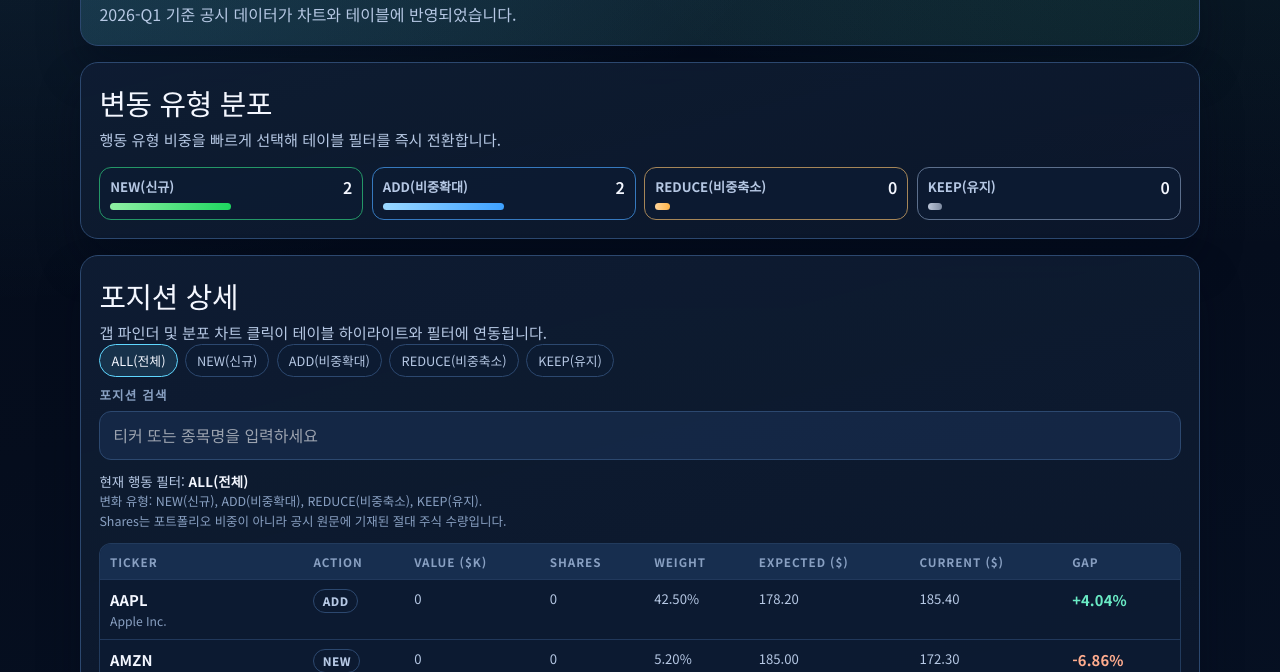
Test: Whale Insider chart coupling › renders and applies all filter chips including KEEP
(page scrolled)
Expected: the row with test id "positions-row-AAPL" is shown, [100,580,1180,639]
Expected: the tab "ALL(전체)" is shown, [99,344,178,378]
Click the tab "KEEP(유지)" at (570, 360), box [526,344,614,378]
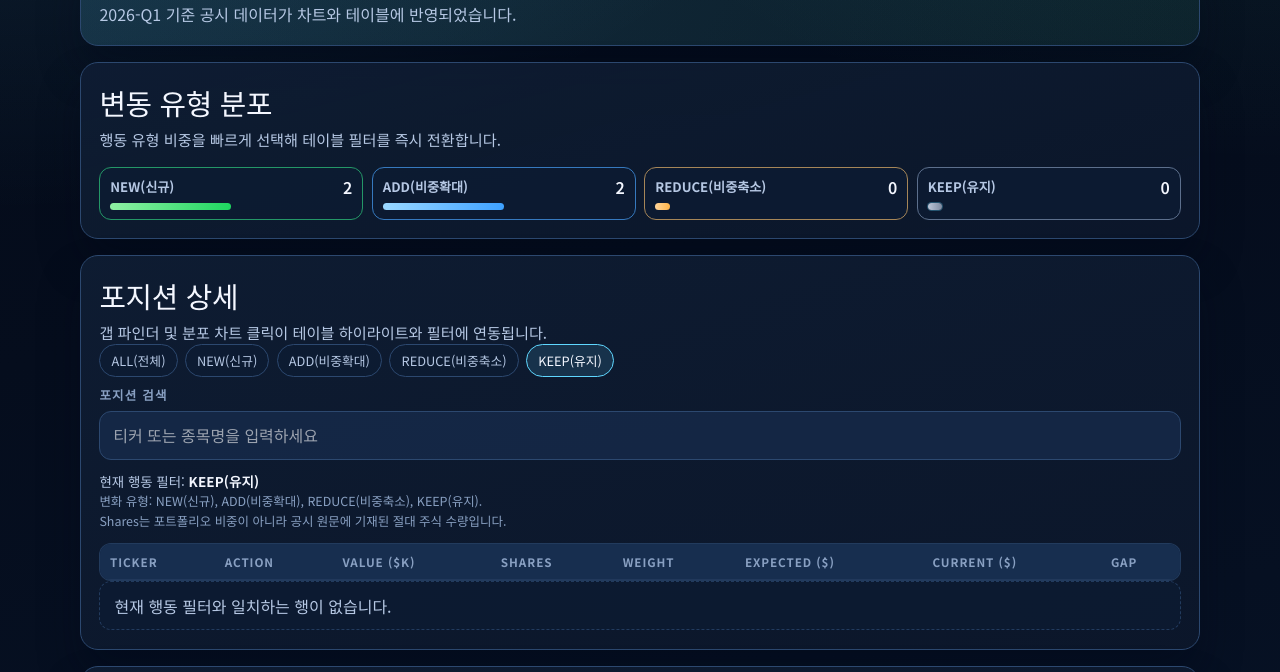
Expected: the element with test id "active-action-filter" shows "KEEP", [189,471,259,491]
Expected: the row with test id "positions-row-AAPL" is gone
